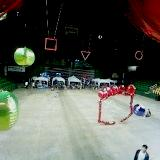Green_Balloon: (1, 91, 19, 130), (14, 48, 34, 65)
Orange_Circle_GShape: (135, 50, 142, 61)
Orange_Square_GShape: (44, 37, 58, 51)
Orange_Triangle_Gshape: (80, 51, 91, 61)
Purple_Balloon: (135, 104, 145, 117)
